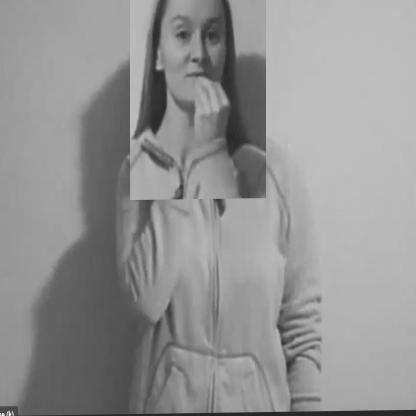Food: (130, 0, 266, 200)
